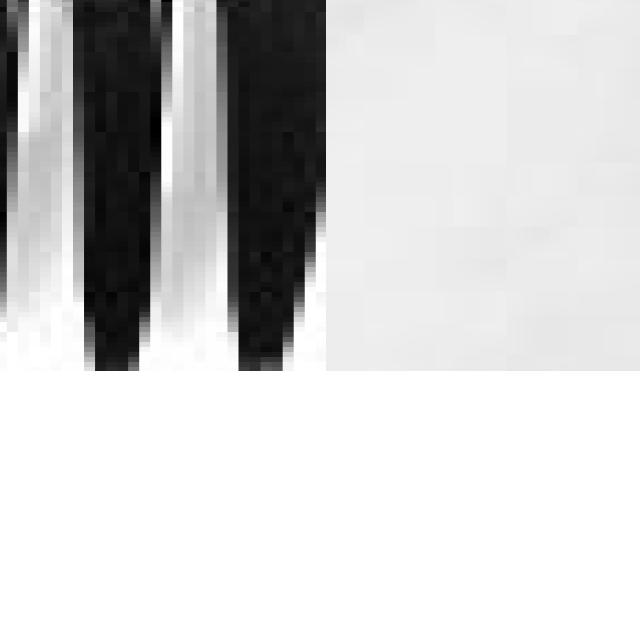forks: (0, 0, 326, 371), (0, 371, 326, 489)
